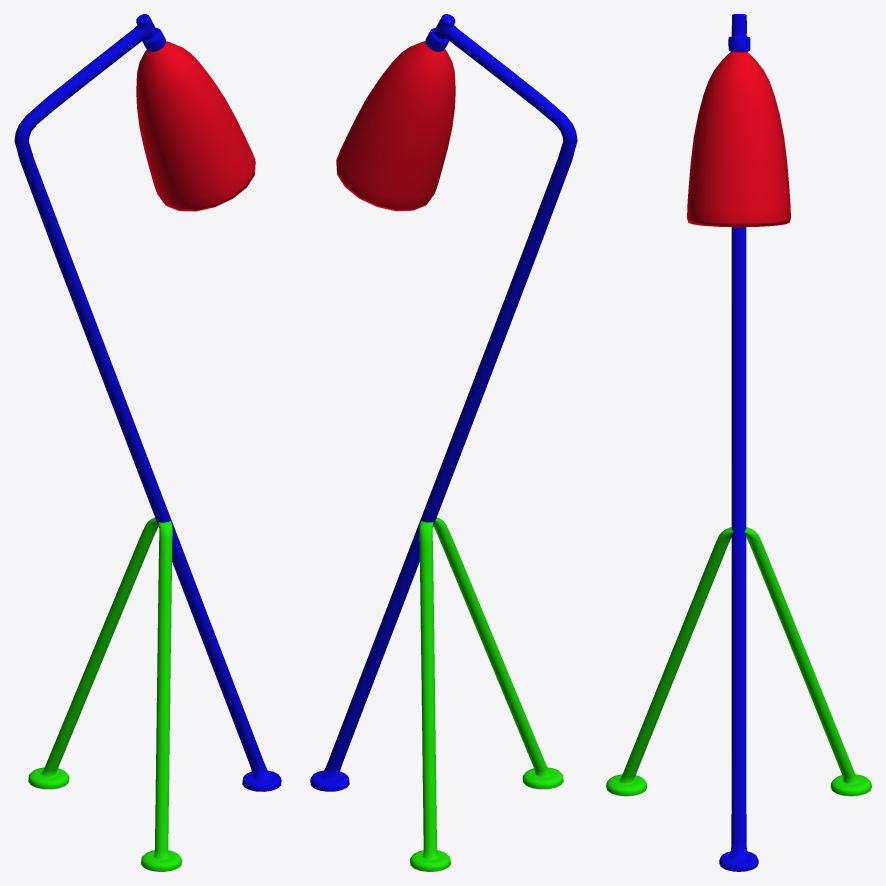
The model's file is Lamp.fbx.
3 views of the same model, side by side, from view 1: azimuth 30°, elevation 25°; view 2: azimuth 150°, elevation 25°; view 3: azimuth 270°, elevation 25° (orthographic).
Parts seen in each view (by area): view 1: Lamp, Legs1, Legs; view 2: Lamp, Legs1, Legs; view 3: Lamp, Legs1, Legs.
Part boxes in pixels (x1,y1,x2,y2): Lamp: [136, 41, 255, 211]; Legs1: [14, 14, 281, 791]; Legs: [28, 517, 181, 871]; Lamp: [336, 41, 455, 211]; Legs1: [310, 14, 577, 791]; Legs: [410, 517, 563, 871]; Lamp: [687, 51, 790, 227]; Legs1: [719, 14, 758, 871]; Legs: [606, 527, 871, 796].
Size of the model in its own units: 43.36 by 125 by 37.97.
